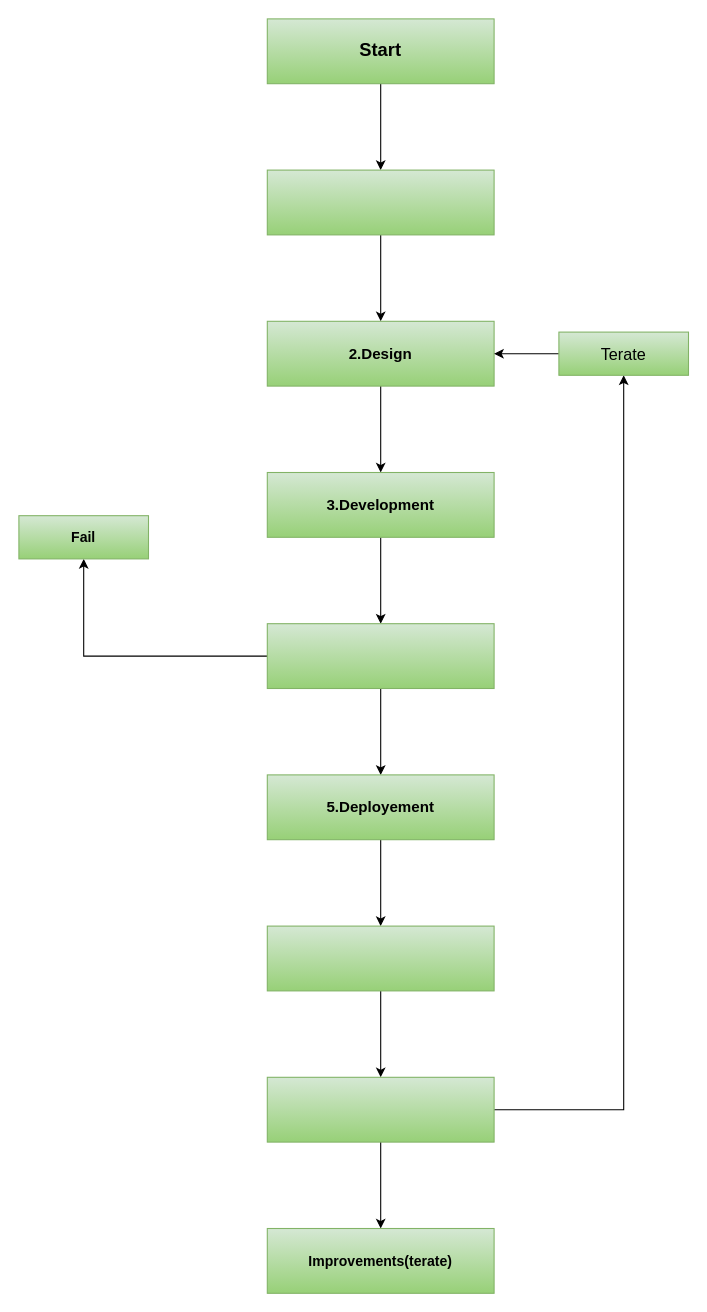
Some shapes in this 707 by 1312 pixel diagram are drawn without their labels. Here are the shapes that lost their labels. From the top down, the centre of each, then its label:
point 380,202: 1.Planning & Requirement
point 380,655: 4.Testing
point 380,958: 6.Monitoring
point 380,1109: 7.Feedback
